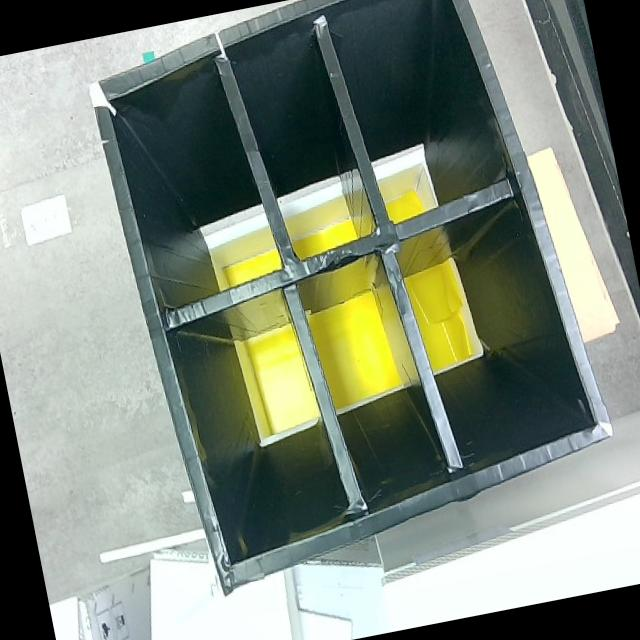box: (76, 0, 634, 607)
